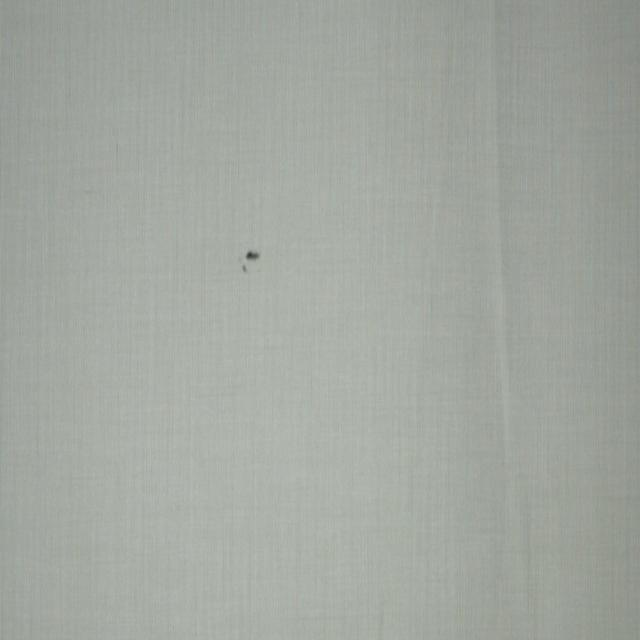dirty: (246, 250, 260, 260), (242, 265, 248, 273), (238, 258, 242, 264)
